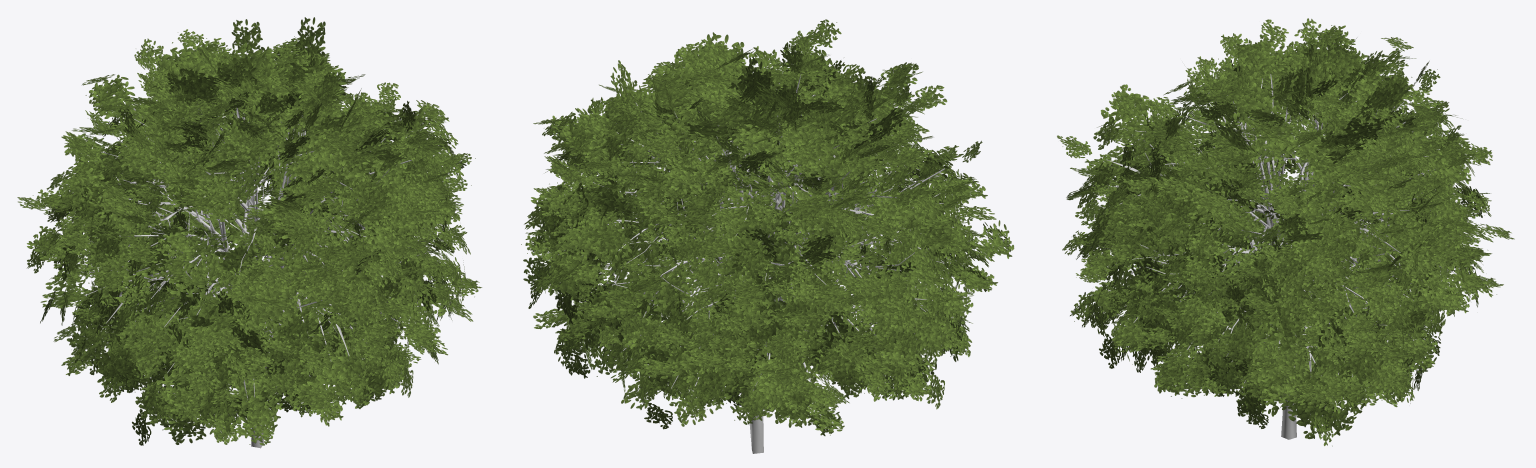
Rendered from oak_1.gltf.
3 renders of one model, left to right at view 1: azimuth 30°, elevation 25°; view 2: azimuth 150°, elevation 25°; view 3: azimuth 270°, elevation 25°, orthographic. The views are drawn at different scales.
Parts seen in each view (by area): view 1: LOD0; view 2: LOD0; view 3: LOD0.
Boxes of the visible parts, box(x1,y1,x2,y2) form: LOD0: box(17, 17, 481, 448); LOD0: box(521, 19, 1014, 453); LOD0: box(1057, 18, 1514, 446).
Size of what is drawn, in the model's own units: 14.32 by 13.26 by 14.27.
